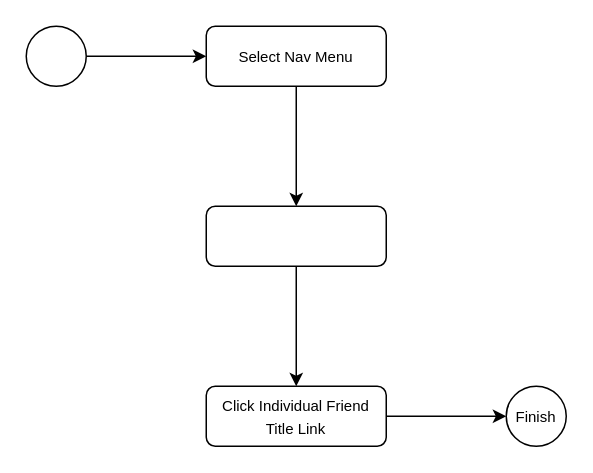
Some shapes in this 593 by 473 pixel diagram are drawn without their labels. The centre of each missing label's shape, as x and y in pixels:
"Click Friends Link" belongs at [295,235].
"Start" belongs at [55,55].
